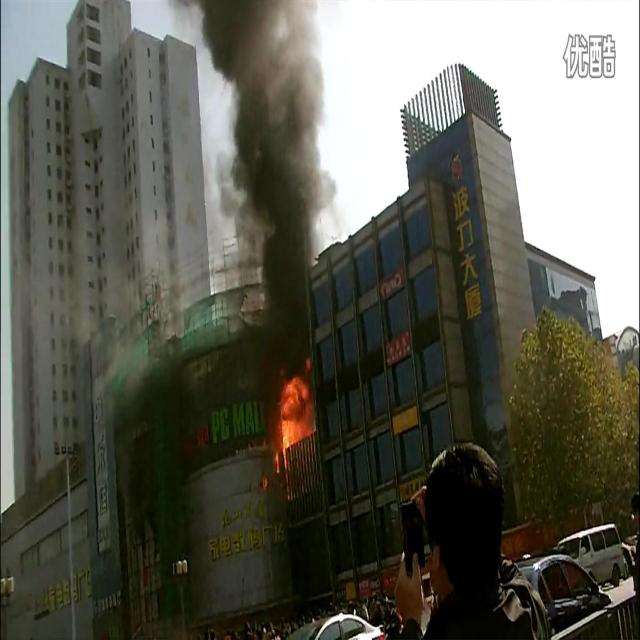fire: (274, 368, 314, 462)
smoke: (227, 94, 326, 234), (201, 2, 328, 91), (260, 223, 312, 354)
